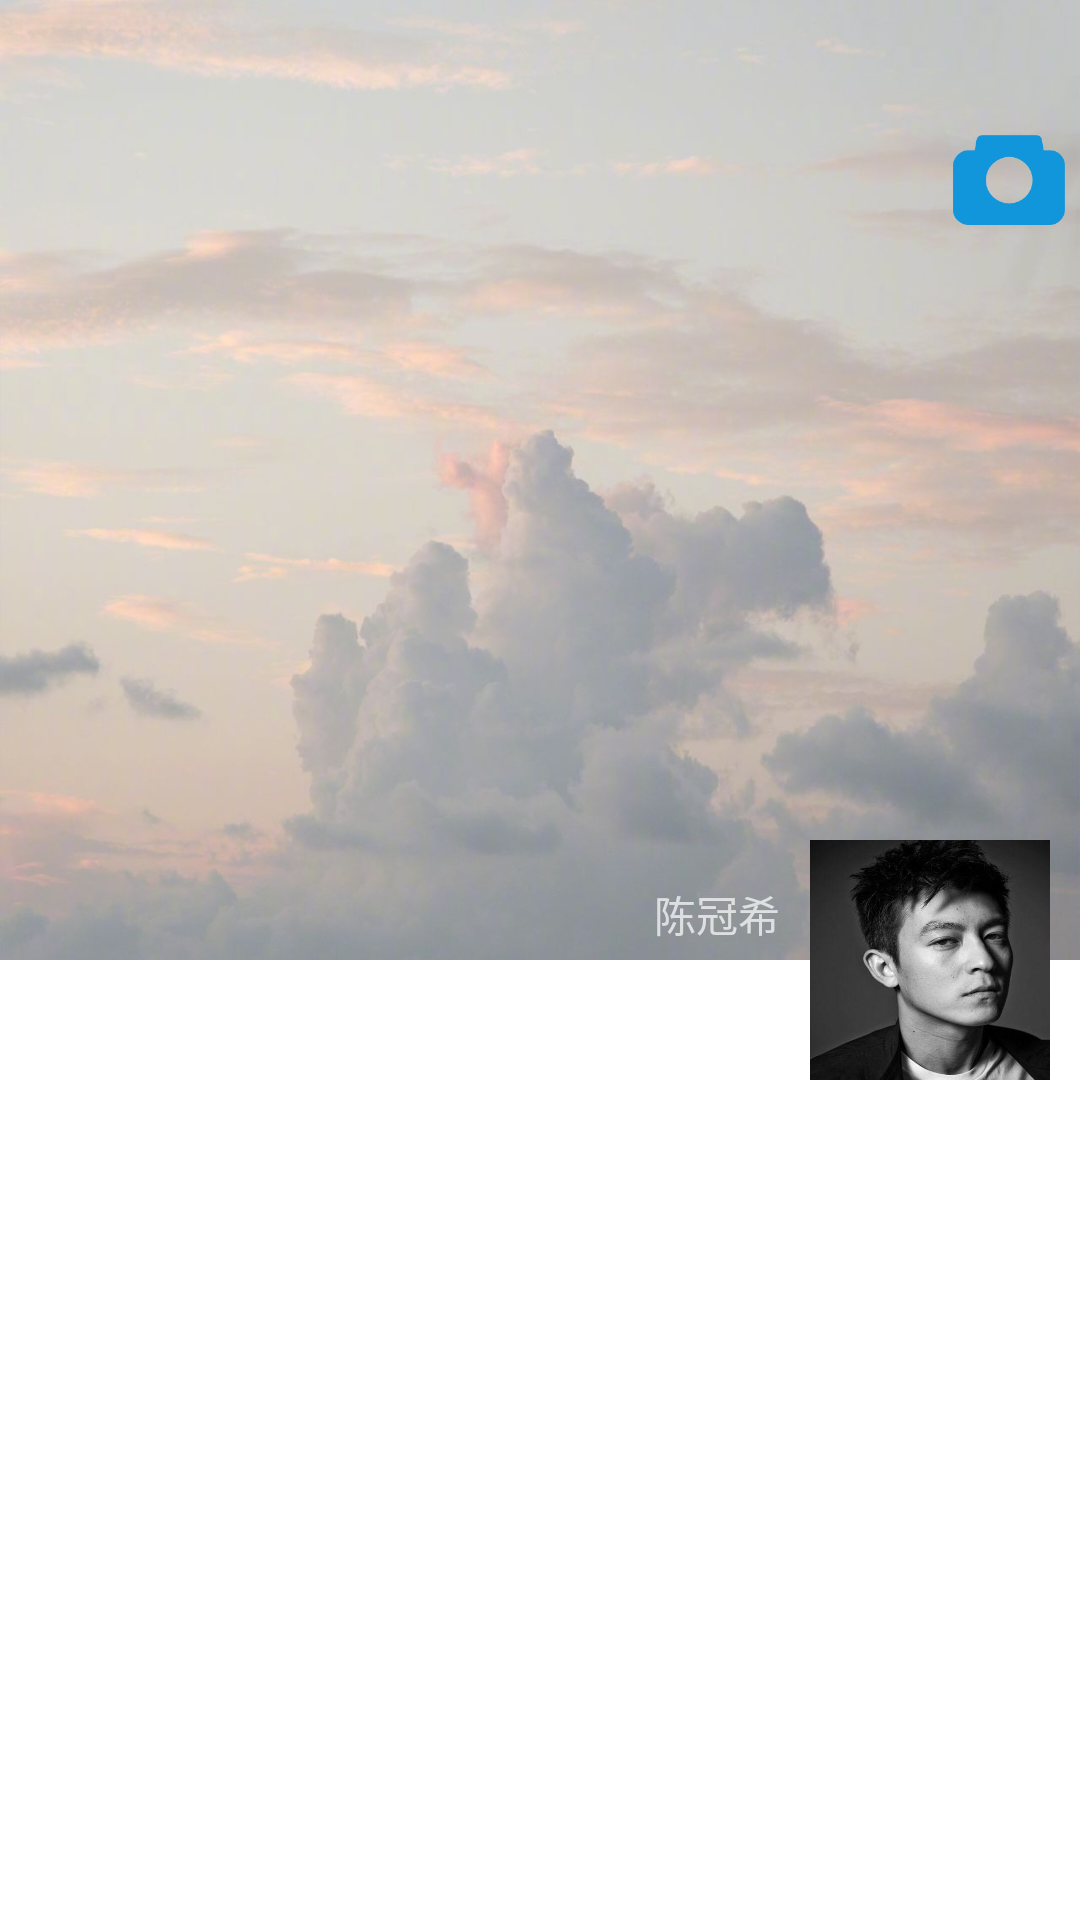

Where to tap for icons on this 1080×1920 app screen, as point (x, y):
camera: point (1009, 180)
